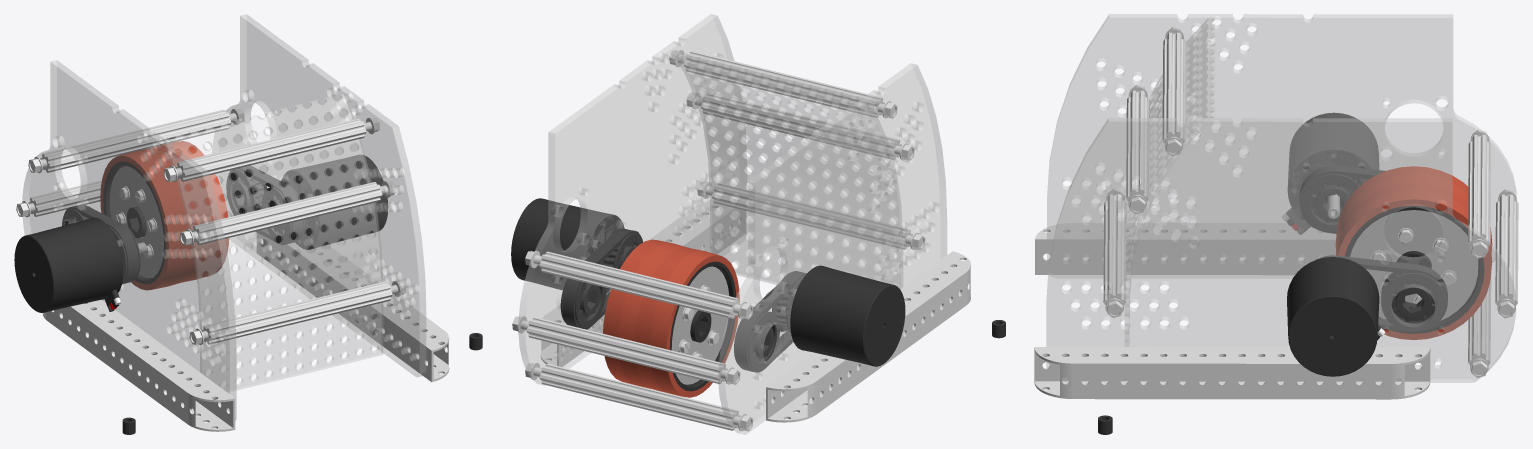
The picture shows the model from 3 angles, left to right: view 1: azimuth 30°, elevation 25°; view 2: azimuth 150°, elevation 25°; view 3: azimuth 270°, elevation 25°; orthographic projection. The views are drawn at different scales.
Visible parts, largest first — view 1: am-5779 Launcher in a Box Side Plate_1 (×2), am-5796 Launcher in a Box Hood Plate Example, Tube 1"x1"x10.103" (×2), 1/2" Churro (6" L, 6061 Aluminum) (×5), NEO Brushless Motor V1.1 (×2), 4" Stealth Wheel (40A, 1/2" Hex Bore) (×2), Stealth Wheel FlyWheel, am-5209_45T 45T 5mm HTD 9mm Wide Belt (×2), am-3403 24 tooth HTD pulley half 500hex_3 (×2); view 2: am-5779 Launcher in a Box Side Plate_1 (×2), am-5796 Launcher in a Box Hood Plate Example, 1/2" Churro (6" L, 6061 Aluminum) (×6), NEO Brushless Motor V1.1 (×2), Tube 1"x1"x10.103" (×2), 4" Stealth Wheel (40A, 1/2" Hex Bore) (×2), am-5209_45T 45T 5mm HTD 9mm Wide Belt (×2), am-3403 24 tooth HTD pulley half 500hex_3 (×3), Stealth Wheel FlyWheel; view 3: am-5779 Launcher in a Box Side Plate_1 (×2), Tube 1"x1"x10.103" (×2), NEO Brushless Motor V1.1 (×2), 1/2" Churro (6" L, 6061 Aluminum) (×6), 4" Stealth Wheel (40A, 1/2" Hex Bore) (×2), am-5796 Launcher in a Box Hood Plate Example, Stealth Wheel FlyWheel, am-3403 24 tooth HTD pulley half 500hex_3 (×2), am-5209_45T 45T 5mm HTD 9mm Wide Belt (×2).
Part boxes in pixels (x1,y1,x2,y2): am-5779 Launcher in a Box Side Plate_1 (×2): (22,14,425,420); am-5796 Launcher in a Box Hood Plate Example: (163,94,382,391); Tube 1"x1"x10.103" (×2): (42,233,449,431); 1/2" Churro (6" L, 6061 Aluminum) (×5): (28,109,392,344); NEO Brushless Motor V1.1 (×2): (14,155,388,312); 4" Stealth Wheel (40A, 1/2" Hex Bore) (×2): (100,141,229,290); Stealth Wheel FlyWheel: (110,166,163,277); am-5209_45T 45T 5mm HTD 9mm Wide Belt (×2): (65,165,303,284); am-3403 24 tooth HTD pulley half 500hex_3 (×2): (226,169,291,243); am-5779 Launcher in a Box Side Plate_1 (×2): (518,14,946,434); am-5796 Launcher in a Box Hood Plate Example: (670,50,902,288); 1/2" Churro (6" L, 6061 Aluminum) (×6): (526,51,912,430); NEO Brushless Motor V1.1 (×2): (511,198,905,366); Tube 1"x1"x10.103" (×2): (540,200,970,422); 4" Stealth Wheel (40A, 1/2" Hex Bore) (×2): (603,239,739,397); am-5209_45T 45T 5mm HTD 9mm Wide Belt (×2): (562,228,806,372); am-3403 24 tooth HTD pulley half 500hex_3 (×3): (575,233,779,371); Stealth Wheel FlyWheel: (671,266,729,384); am-5779 Launcher in a Box Side Plate_1 (×2): (1046,14,1516,382); Tube 1"x1"x10.103" (×2): (1034,223,1430,399); NEO Brushless Motor V1.1 (×2): (1282,112,1384,376); 1/2" Churro (6" L, 6061 Aluminum) (×6): (1103,32,1518,364); 4" Stealth Wheel (40A, 1/2" Hex Bore) (×2): (1335,166,1492,339); am-5796 Launcher in a Box Hood Plate Example: (1124,18,1214,346); Stealth Wheel FlyWheel: (1350,210,1478,320); am-3403 24 tooth HTD pulley half 500hex_3 (×2): (1301,173,1445,331); am-5209_45T 45T 5mm HTD 9mm Wide Belt (×2): (1299,165,1447,332).
Bounding box in the file's own units: 0.3016 × 0.1922 × 0.3139.
